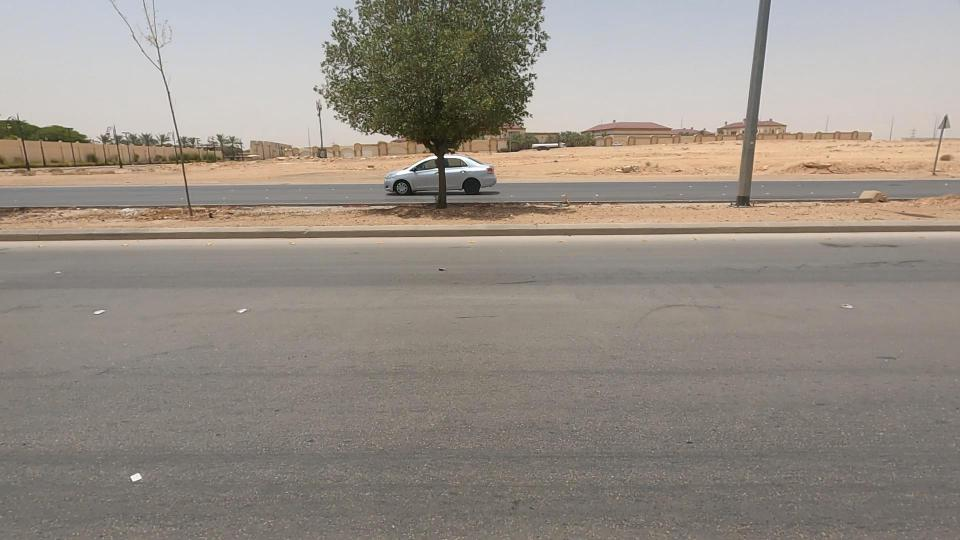CLUTTER_SIDEWALK: (406, 157, 800, 268), (742, 154, 960, 263), (175, 172, 423, 263), (8, 172, 259, 253)
